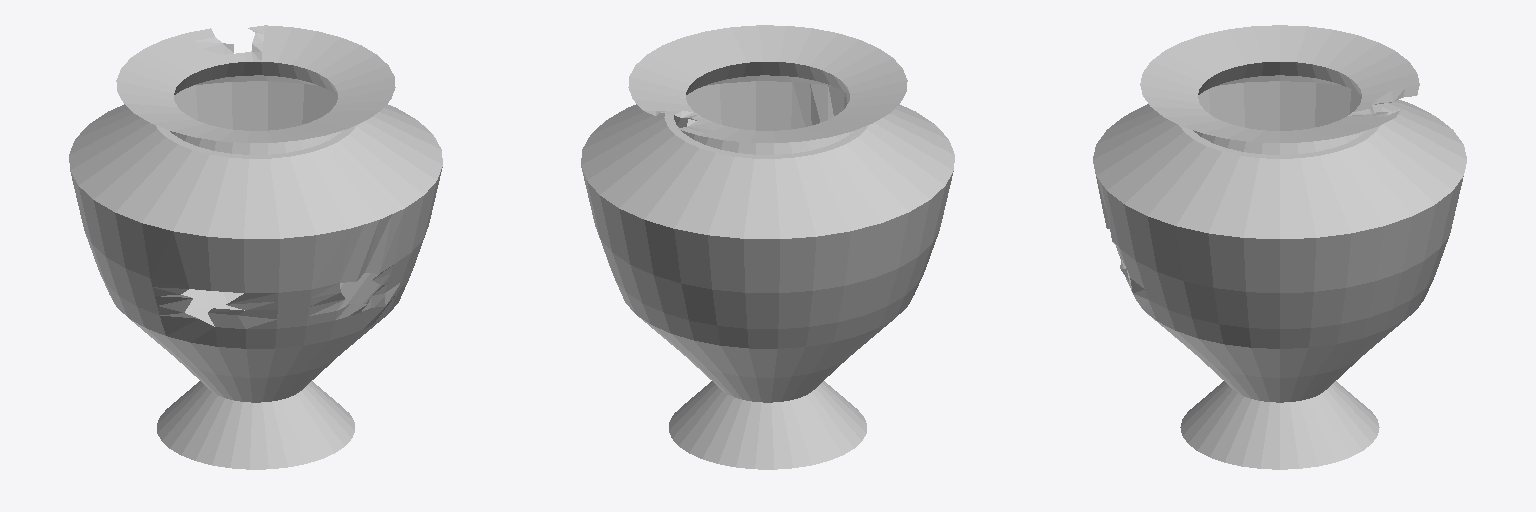
The model's file is vasecassé.obj.
3 renders of one model, left to right at view 1: azimuth 30°, elevation 25°; view 2: azimuth 150°, elevation 25°; view 3: azimuth 270°, elevation 25°, orthographic.
Visible parts, largest first — view 1: Cylinder; view 2: Cylinder; view 3: Cylinder.
Part boxes in pixels (x1,y1,x2,y2): Cylinder: (69, 25, 442, 469); Cylinder: (581, 25, 954, 469); Cylinder: (1093, 25, 1466, 469).
Bounding box in the file's own units: 3.76 × 3.8 × 3.76.